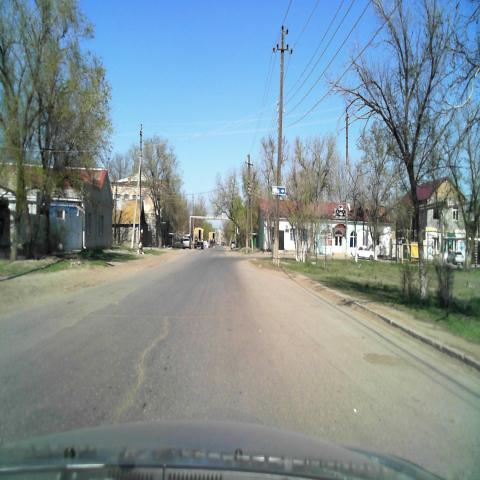6_15_2: (272, 185, 286, 196)
